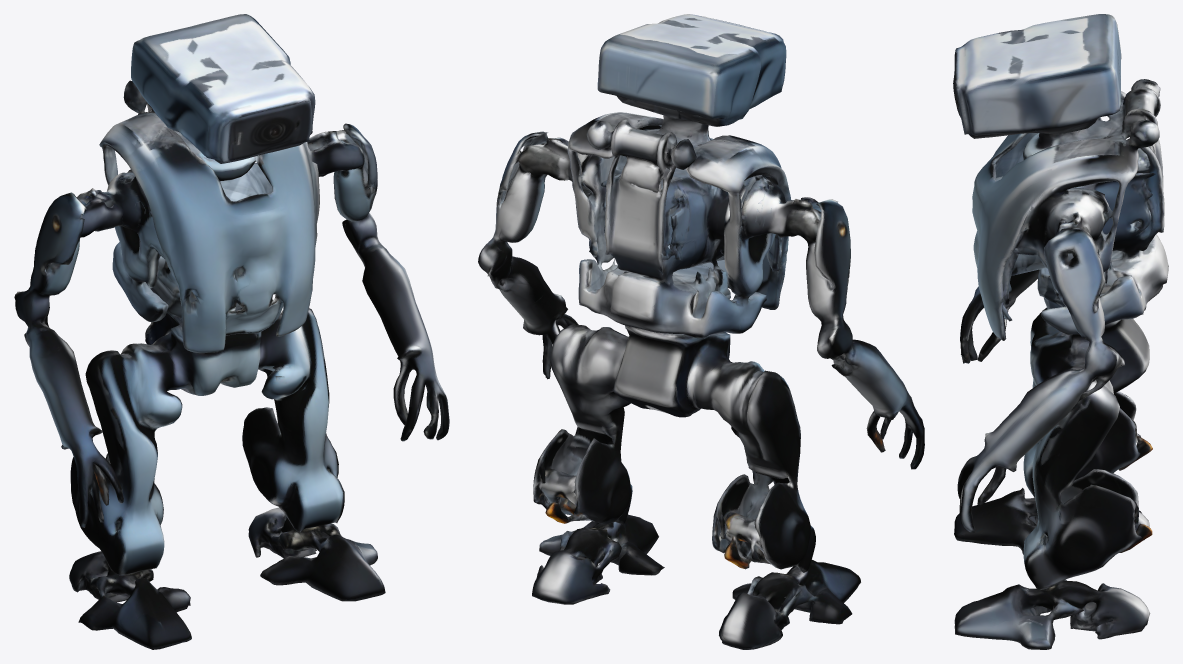
File: Autonomous_Camera_Rob_1104041031.glb
The picture shows the model from 3 angles, left to right: view 1: azimuth 30°, elevation 25°; view 2: azimuth 150°, elevation 25°; view 3: azimuth 270°, elevation 25°; orthographic projection. The views are drawn at different scales.
Bounding box in the file's own units: 1.44 × 2 × 0.7208.
1 material, 1 textured.
